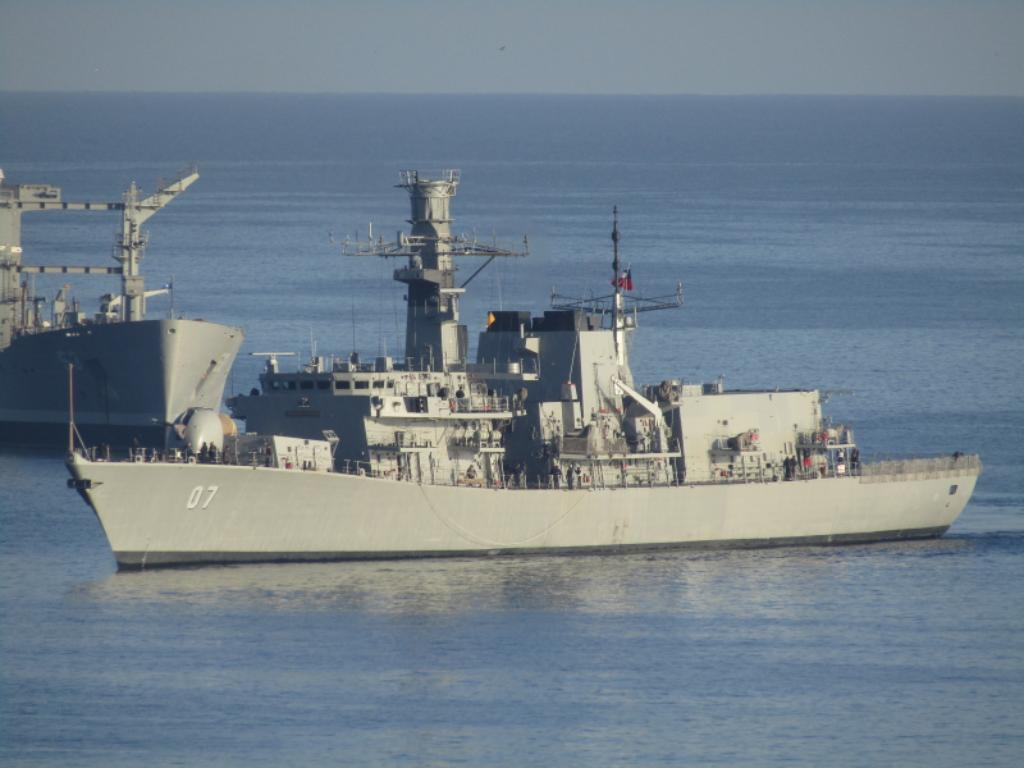Warship: (60, 170, 988, 574), (0, 150, 268, 438)
